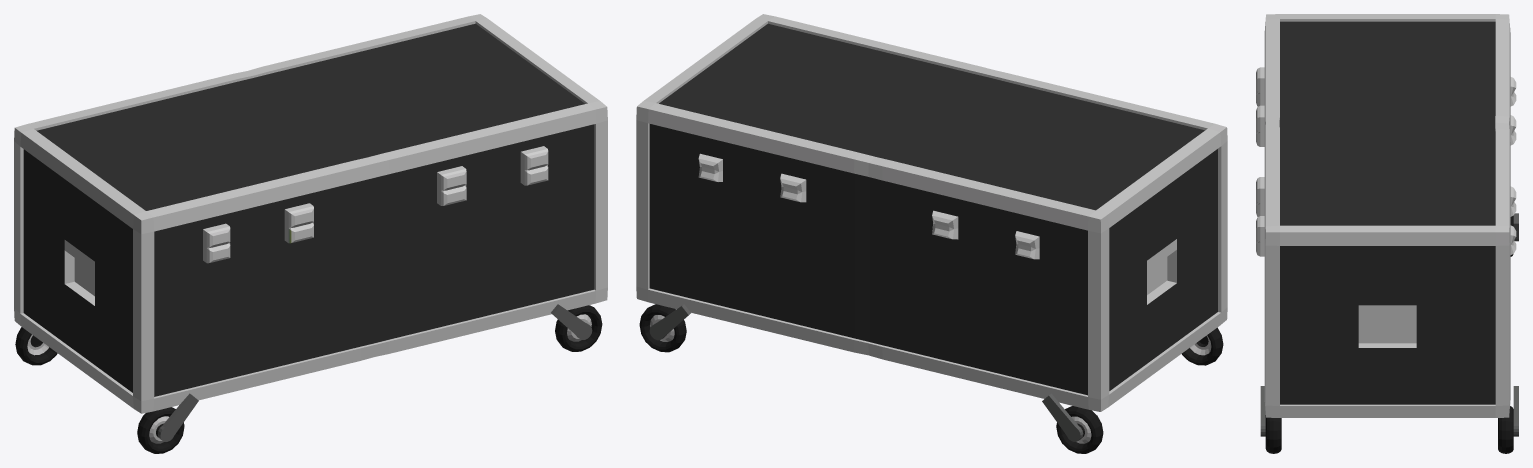
File: BigWheelBox.fbx
3 views of the same model, side by side, from view 1: azimuth 30°, elevation 25°; view 2: azimuth 150°, elevation 25°; view 3: azimuth 270°, elevation 25° (orthographic). The views are drawn at different scales.
Parts seen in each view (by area): view 1: BigWhellBox; view 2: BigWhellBox; view 3: BigWhellBox.
Part boxes in pixels (bbox=[...]): BigWhellBox: bbox=[14, 14, 607, 453]; BigWhellBox: bbox=[636, 14, 1227, 453]; BigWhellBox: bbox=[1256, 14, 1518, 453].
Bounding box in the file's own units: 199 × 98.41 × 101.
